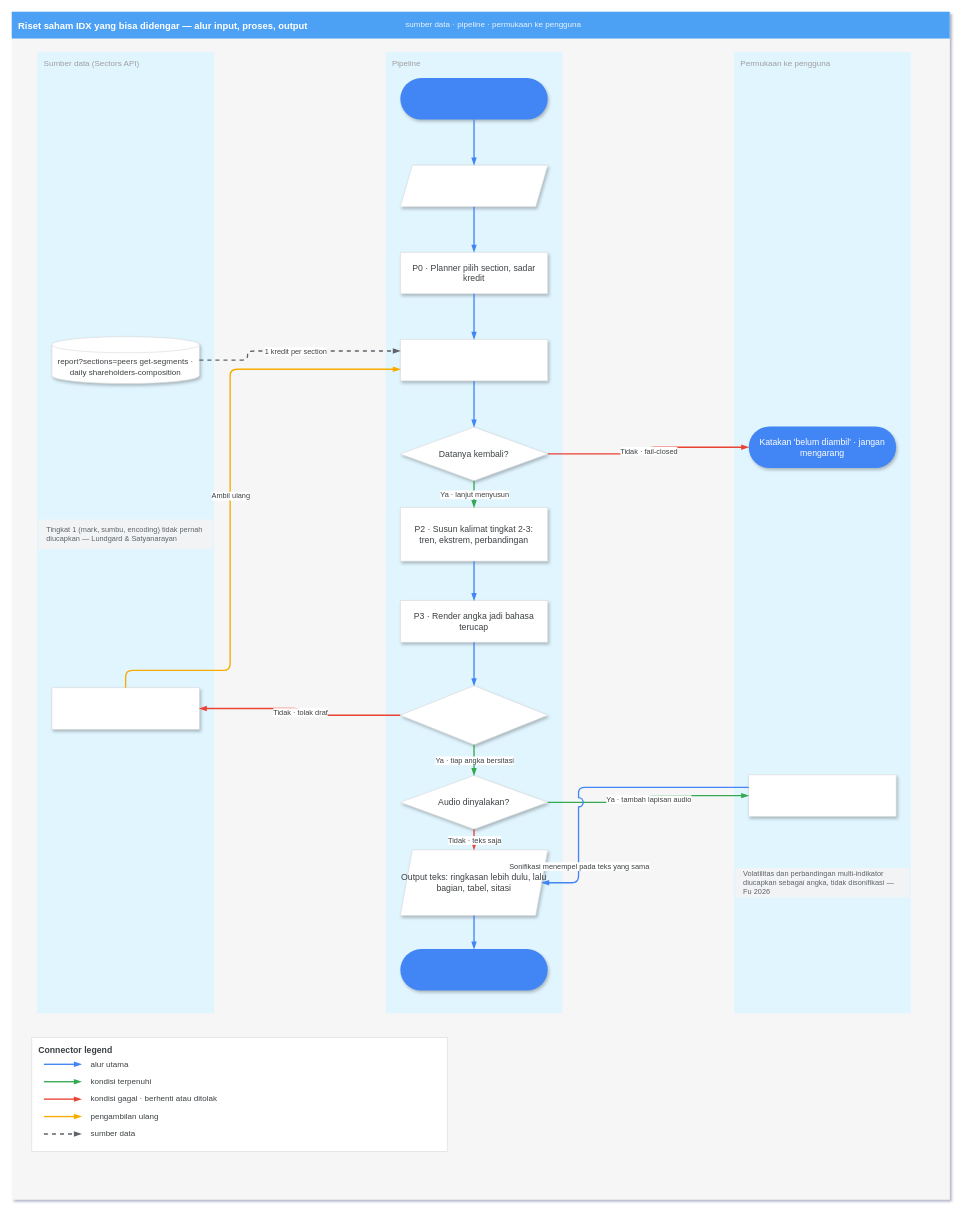
This 965x1215 diagram has some shape labels left out. Here are the shapes that lost their labels. From the top down, the centre of each, then its label:
At (474,99): "Pengguna membuka satu emiten".
At (474,186): "Input: kode saham + pertanyaan opsional".
At (474,361): "P1 · Tarik data yang biasanya divisualkan".
At (126,709): "Ambil ulang field yang tak bersumber".
At (474,715): "Tiap angka punya (endpoint, field)?".
At (822,796): "P5 · Sonifikasi tren + earcon event".
At (474,970): "Pengguna menavigasi lewat heading dan tanya-jawab".
